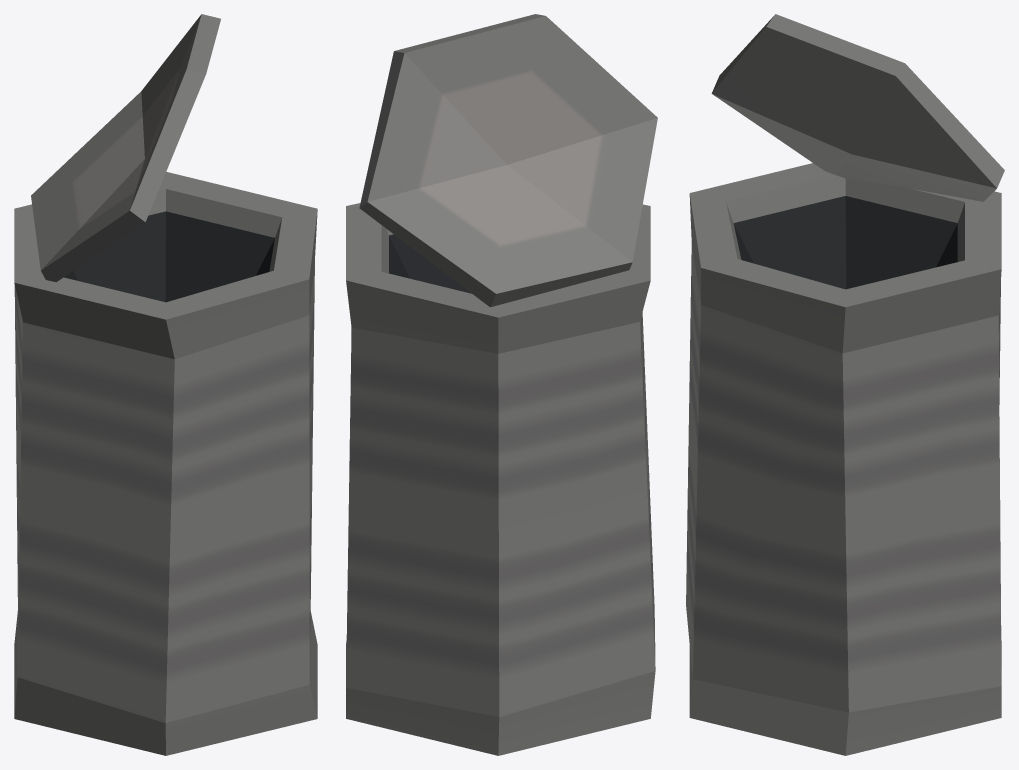
Rendered from SM_Item_Can_04.obj.
The picture shows the model from 3 angles, left to right: view 1: azimuth 30°, elevation 25°; view 2: azimuth 150°, elevation 25°; view 3: azimuth 270°, elevation 25°; orthographic projection. The views are drawn at different scales.
Parts seen in each view (by area): view 1: SM_Item_Can_04_0; view 2: SM_Item_Can_04_0; view 3: SM_Item_Can_04_0.
Part boxes in pixels (<box>): SM_Item_Can_04_0: <box>14,14,317,755</box>; SM_Item_Can_04_0: <box>346,14,657,755</box>; SM_Item_Can_04_0: <box>686,14,1004,755</box>.
Bounding box in the file's own units: 0.1488 × 0.2997 × 0.1315.
Materials: 1 (1 with a texture image).
